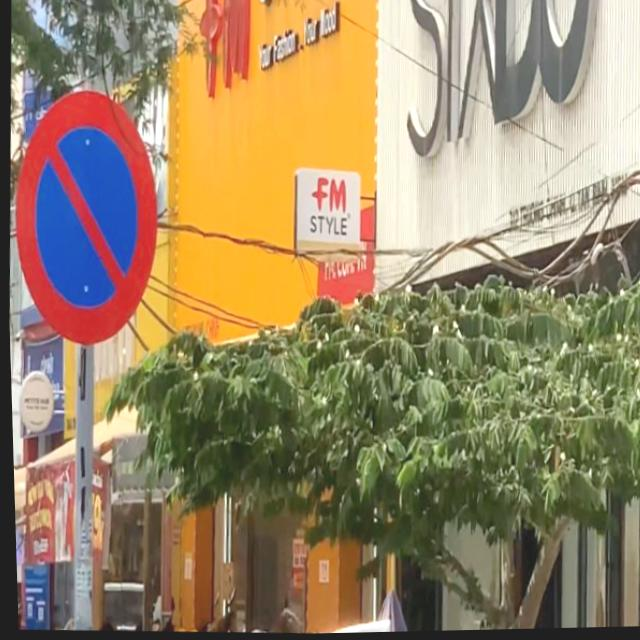Cam do xe: (4, 84, 165, 353)
